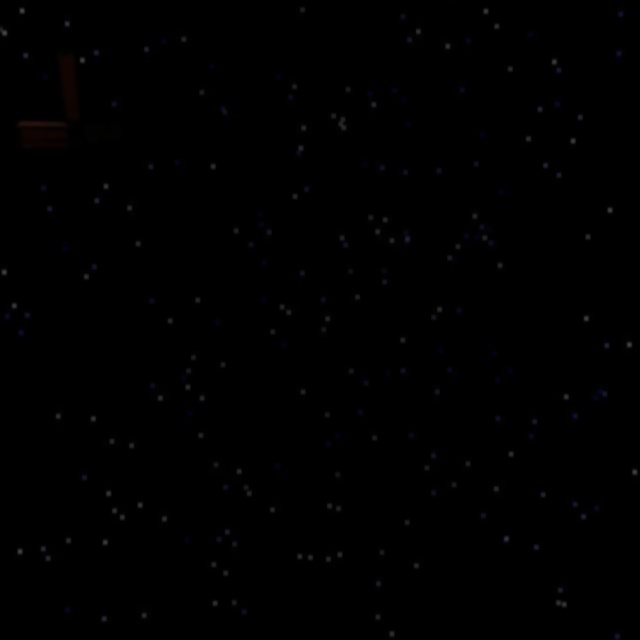satellite: (6, 43, 95, 174)
